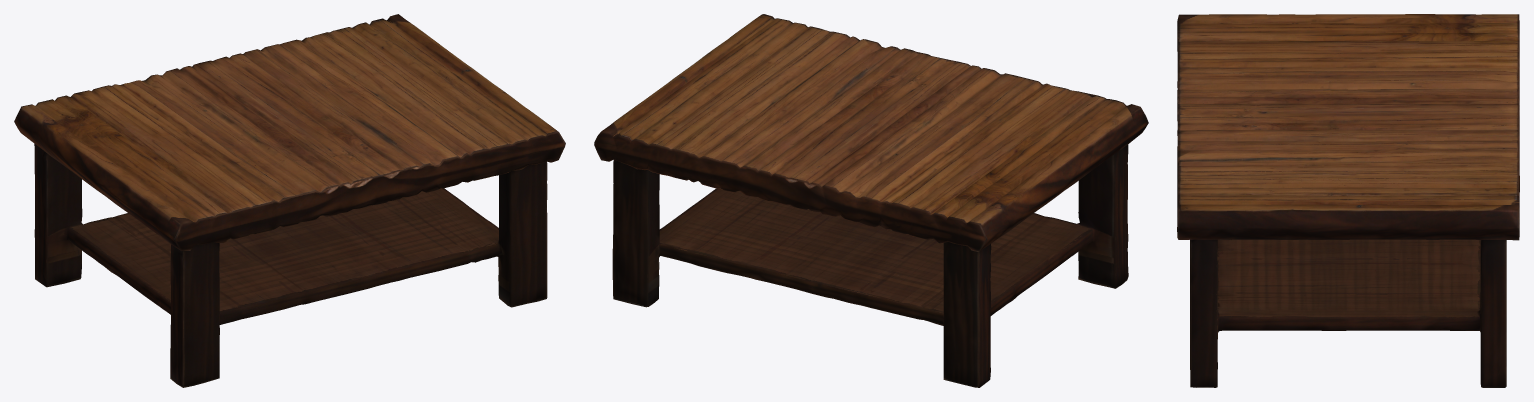
File: Meshy_AI_Wooden_table_0124082042_texture.glb
3 views of the same model, side by side, from view 1: azimuth 30°, elevation 25°; view 2: azimuth 150°, elevation 25°; view 3: azimuth 270°, elevation 25° (orthographic). The views are drawn at different scales.
Bounding box in the file's own units: 2.01 × 0.8368 × 1.43.
1 material, 1 textured.
